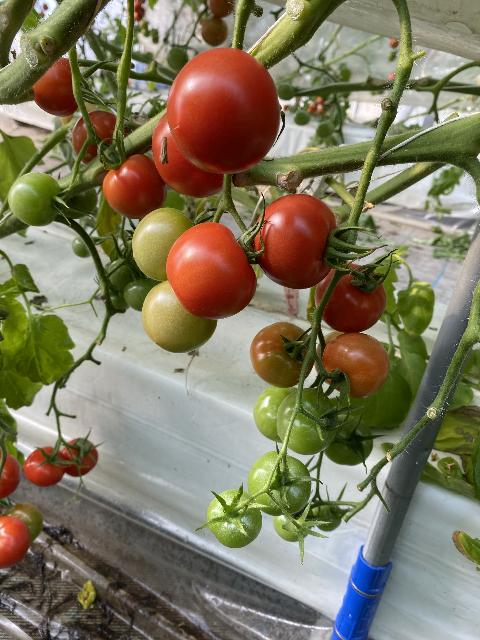l_fully_ripened: (166, 47, 281, 175), (166, 222, 258, 321), (252, 193, 342, 290), (151, 114, 224, 198), (313, 263, 386, 333), (102, 154, 168, 219), (72, 111, 129, 165), (32, 57, 78, 117), (23, 447, 66, 486), (0, 516, 31, 568), (60, 437, 99, 477), (0, 451, 22, 499)
l_green: (142, 282, 218, 355), (132, 207, 196, 282), (276, 388, 339, 454), (248, 451, 311, 517), (206, 488, 263, 549), (7, 172, 61, 226), (253, 385, 299, 443), (323, 414, 374, 466), (273, 503, 315, 542), (4, 503, 43, 543), (58, 188, 99, 220), (124, 279, 159, 312), (312, 499, 343, 531), (109, 259, 142, 288), (73, 237, 91, 258)
l_half_ripened: (320, 332, 389, 399), (250, 322, 317, 388)
